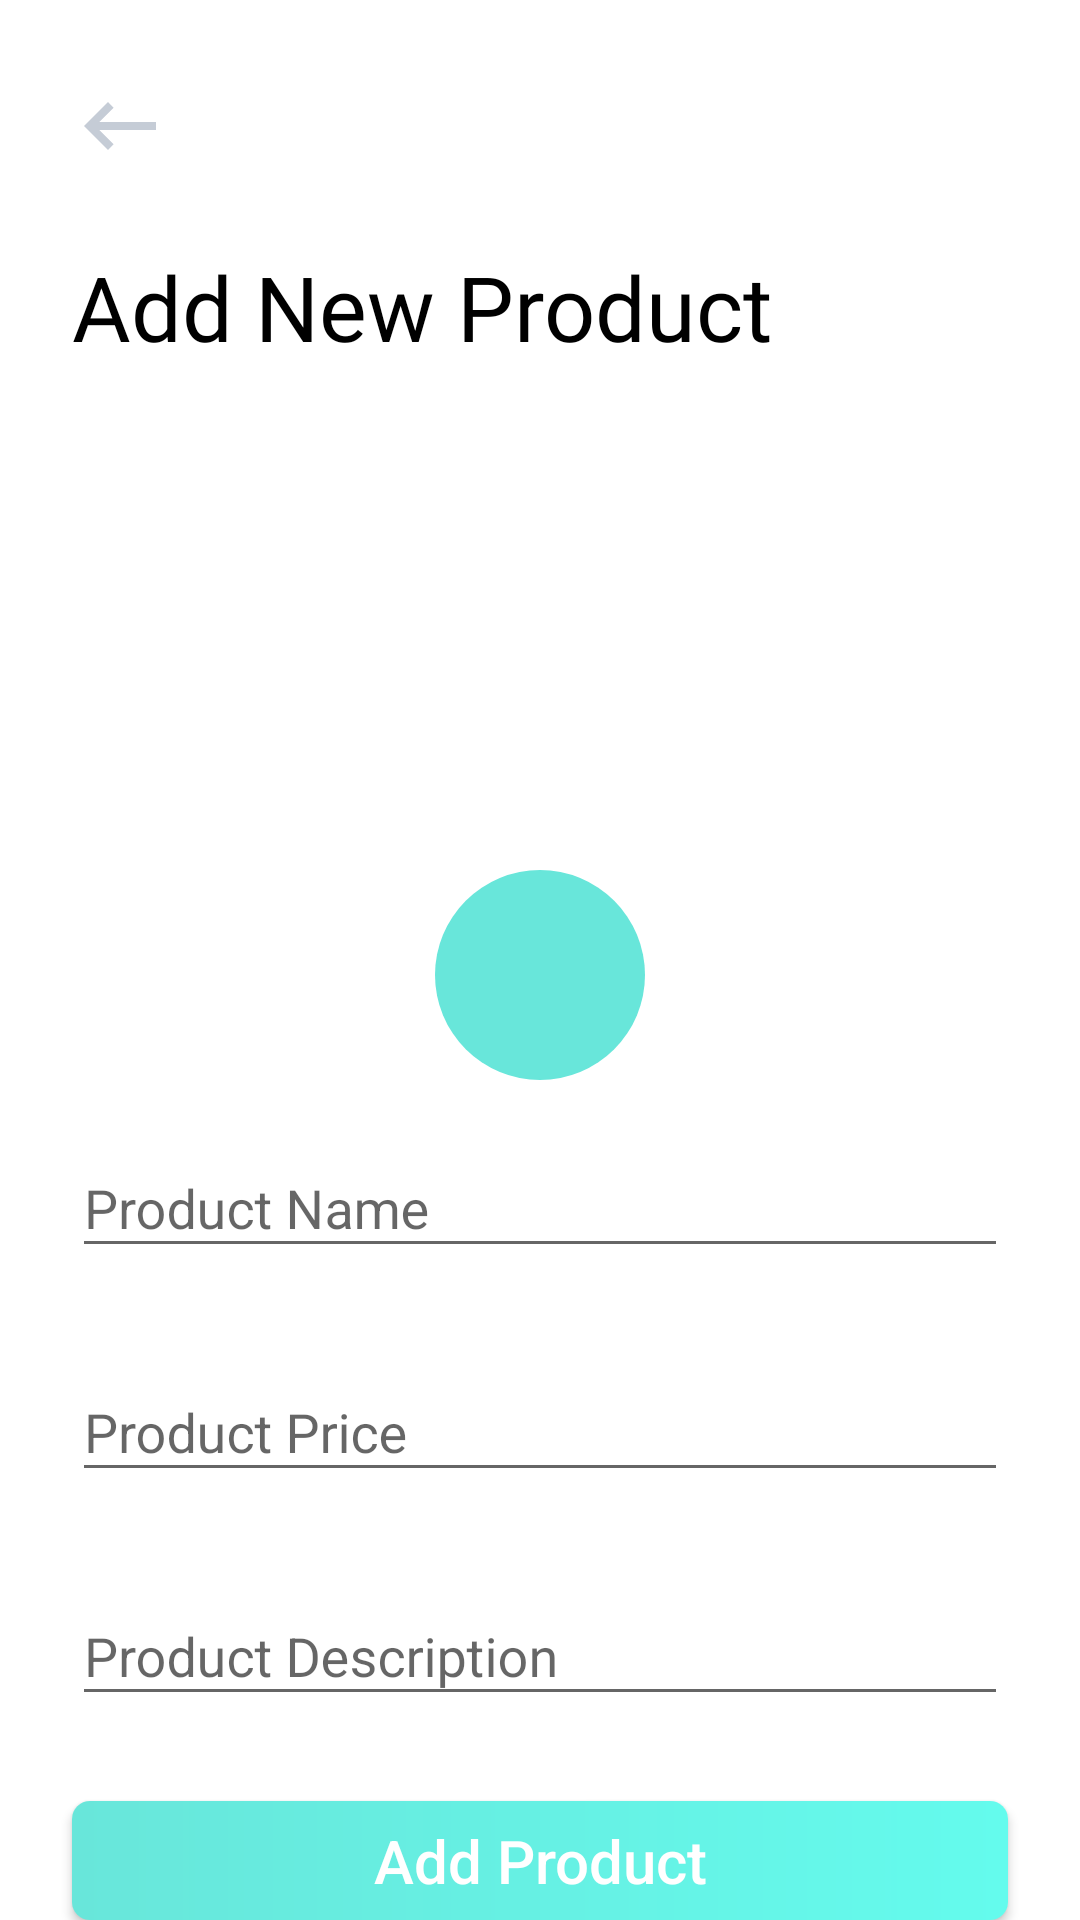

Where to tap for icons on this 1080×1920 app screen, as point (x, y):
keyboard backspace: point (120, 126)
